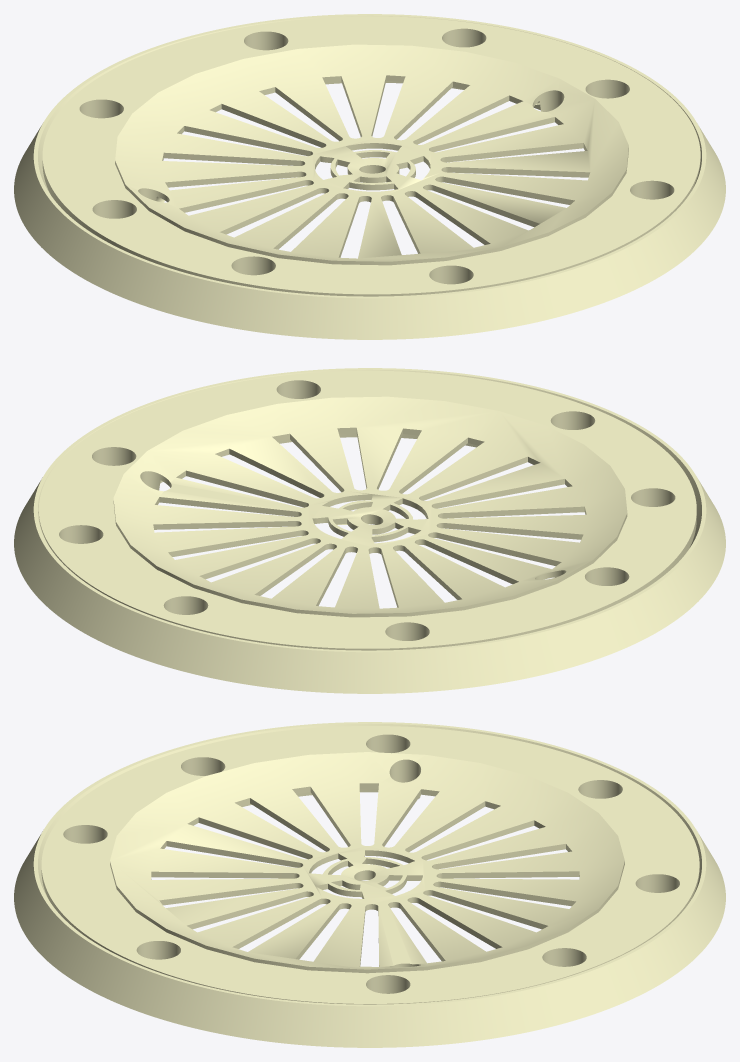
The model's file is nozzel.glb.
3 renders of one model, top to bottom at view 1: azimuth 30°, elevation 25°; view 2: azimuth 150°, elevation 25°; view 3: azimuth 270°, elevation 25°, orthographic.
Parts seen in each view (by area): view 1: Line001, Circle002, Circle004; view 2: Line001, Circle002, Circle004; view 3: Line001, Circle002, Circle004.
Boxes of the visible parts, box(x1,y1,x2,y2) form: Line001: box(115, 44, 628, 265); Circle002: box(42, 16, 700, 296); Circle004: box(14, 14, 725, 339); Line001: box(113, 396, 627, 617); Circle002: box(38, 370, 696, 650); Circle004: box(14, 368, 725, 693); Line001: box(110, 752, 624, 973); Circle002: box(41, 726, 699, 1004); Circle004: box(14, 722, 725, 1047).
Bounding box in the file's own units: 4.18 × 0.2401 × 4.18.
